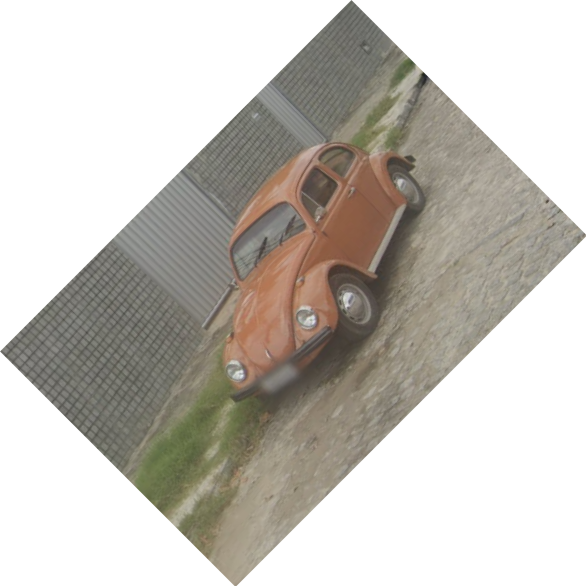car: (221, 141, 423, 410)
